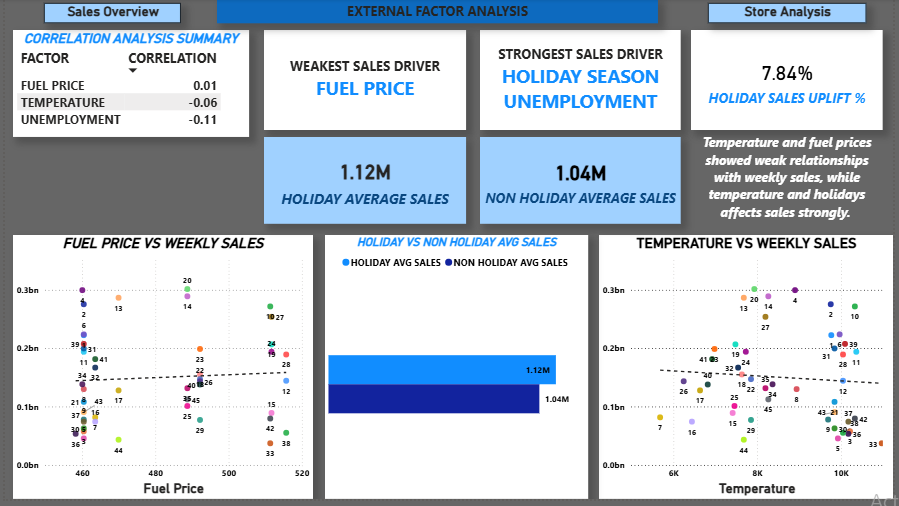

Layout of this report page (visuals, bound fields, positions):
{"tool":"powerbi","page":{"name":"External factor Analysis","canvas":[1280,720],"ordinal":2},"visuals":[{"type":"scatterChart","title":"FUEL PRICE VS WEEKLY SALES","fields":{"Y":["Sum(Walmart.Weekly_Sales)"],"Category":["Walmart.Store"],"X":["Sum(Walmart.Fuel_Price)"]},"box":[11.5,339.8,432,380.2],"z":0},{"type":"scatterChart","title":"TEMPERATURE VS WEEKLY SALES","fields":{"Y":["Sum(Walmart.Weekly_Sales)"],"X":["Sum(Walmart.Temperature)"],"Category":["Walmart.Store"]},"box":[855.4,339.8,424.8,380.2],"z":1000},{"type":"tableEx","title":"CORRELATION ANALYSIS SUMMARY","fields":{"Values":["Correlation_Table.FACTOR","Sum(Correlation_Table.CORRELATION)"]},"box":[11.5,44.6,339.8,154.1],"z":2000},{"type":"textbox","box":[373,44.6,290.9,144],"z":3000},{"type":"textbox","box":[684,44.6,289.4,144],"z":4000},{"type":"card","fields":{"Values":["Walmart.holiday sales uplift %"]},"box":[987.8,44.6,276.5,144],"z":5000},{"type":"card","fields":{"Values":["Walmart.Holiday average"]},"box":[373,198.7,290.9,125.3],"z":6000},{"type":"card","fields":{"Values":["Walmart.Non Holiday Average"]},"box":[684,198.7,289.4,125.3],"z":7000},{"type":"clusteredBarChart","title":"HOLIDAY VS NON HOLIDAY AVG SALES","fields":{"Y":["Walmart.Holiday average","Walmart.Non Holiday Average"]},"box":[460.8,339.8,378.7,380.2],"z":8000},{"type":"textbox","box":[987.8,188.6,276.5,151.2],"z":9000},{"type":"textbox","box":[305.3,0,635,34.6],"z":10000}]}

Visuals, with their boxes in screenshot pixels (x1, y1, x2, y2), scaled from the page's 1280x720 canvas onto the 899x506 screenshot:
"FUEL PRICE VS WEEKLY SALES" scatterChart: bbox(8, 239, 311, 505)
"TEMPERATURE VS WEEKLY SALES" scatterChart: bbox(601, 239, 898, 505)
"CORRELATION ANALYSIS SUMMARY" tableEx: bbox(8, 31, 247, 140)
textbox: bbox(262, 31, 466, 133)
textbox: bbox(480, 31, 684, 133)
card - Walmart.holiday sales uplift %: bbox(694, 31, 888, 133)
card - Walmart.Holiday average: bbox(262, 140, 466, 228)
card - Walmart.Non Holiday Average: bbox(480, 140, 684, 228)
"HOLIDAY VS NON HOLIDAY AVG SALES" clusteredBarChart: bbox(324, 239, 590, 505)
textbox: bbox(694, 133, 888, 239)
textbox: bbox(214, 0, 660, 24)
